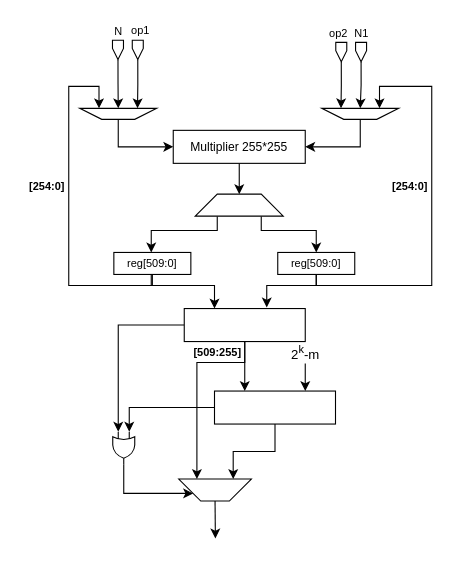
Some shapes in this 460 by 567 pixel diagram are drawn without their labels. The shapes that lost their labels are listed below. From the top down, each one's box as (x1, y1, x2, y2) in pixels, then its label:
(183, 307, 305, 342): Adder 510+510
(213, 390, 336, 424): Adder 255+255
